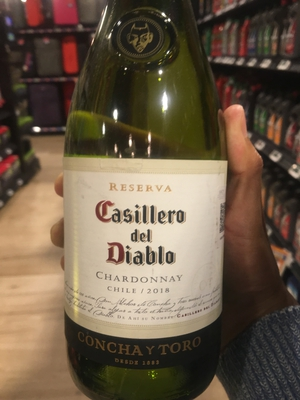casillero del diablo chardonnay: (58, 3, 232, 400)
